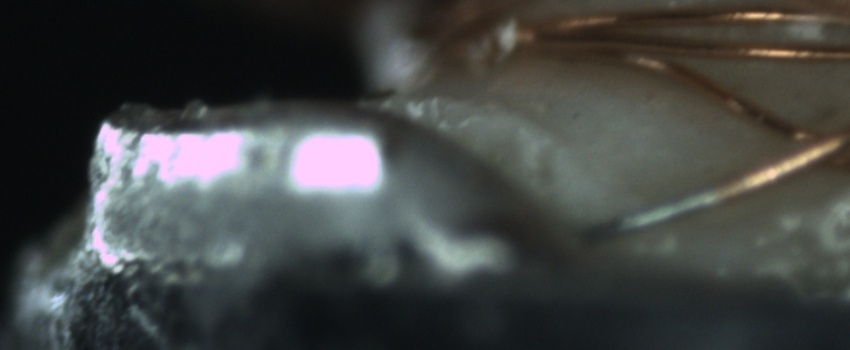TS: (578, 188, 718, 245)
